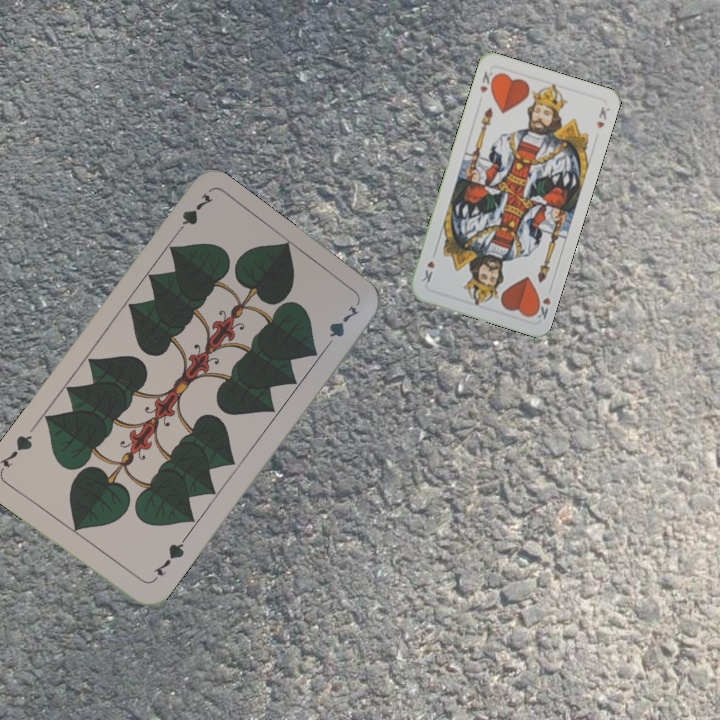G7: (169, 189, 216, 240), (150, 534, 188, 579)
HK: (529, 283, 555, 321), (476, 67, 495, 95)
